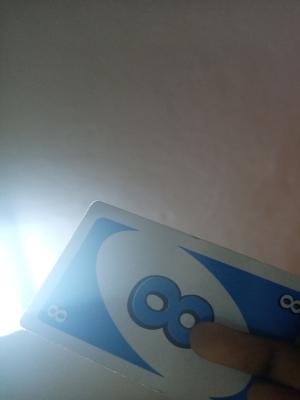blue: (75, 249, 278, 375)
